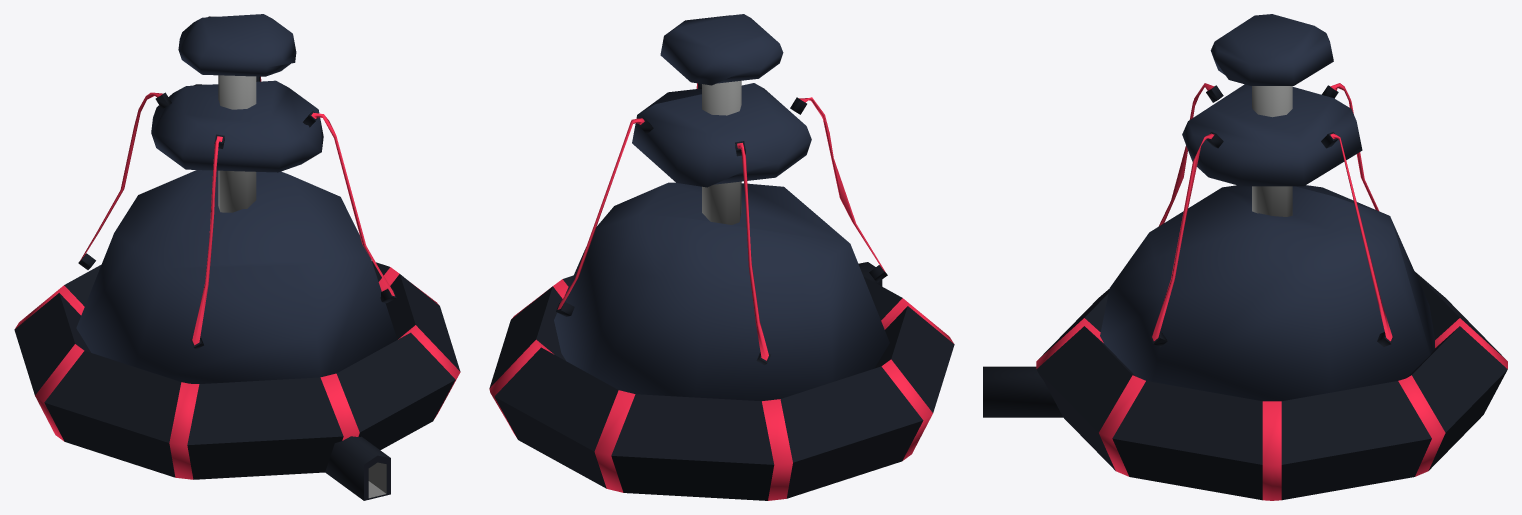
File: building 2_LOD_3.fbx
The picture shows the model from 3 angles, left to right: view 1: azimuth 30°, elevation 25°; view 2: azimuth 150°, elevation 25°; view 3: azimuth 270°, elevation 25°; orthographic projection. The views are drawn at different scales.
Visible parts, largest first — view 1: Cylinder.001; view 2: Cylinder.001; view 3: Cylinder.001.
Part boxes in pixels (x1=…): Cylinder.001: x1=14, y1=14, x2=460, y2=500; Cylinder.001: x1=489, y1=14, x2=954, y2=500; Cylinder.001: x1=983, y1=14, x2=1507, y2=500.
Bounding box in the file's own units: 2334 × 2061 × 2589.
